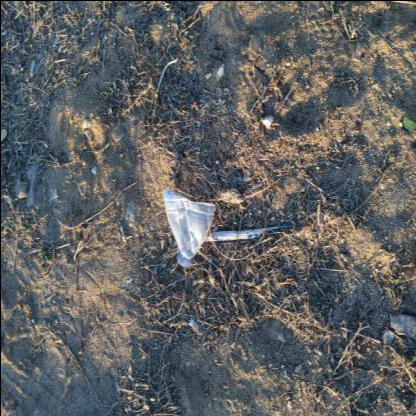Bottle cap: (162, 188, 215, 266)
Cigarette: (188, 317, 200, 335)
Other plastic: (341, 326, 380, 342)
Unlabeled litter: (204, 225, 292, 241), (390, 312, 416, 340), (402, 116, 416, 132)
